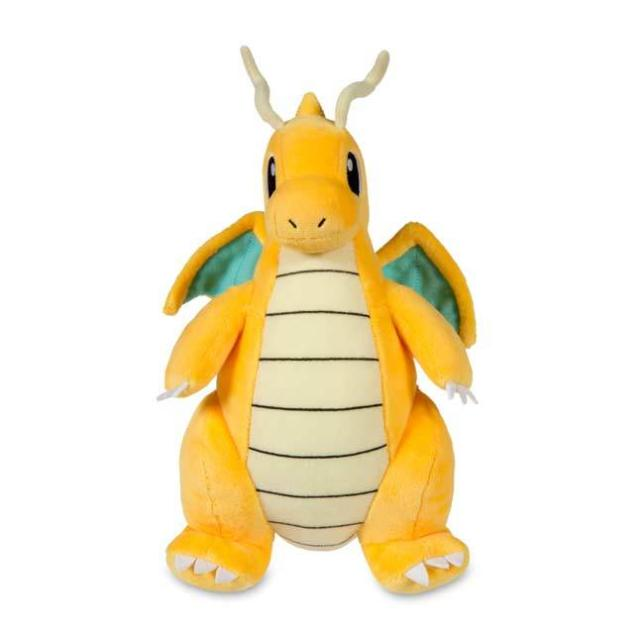Dragonite: (151, 42, 484, 603)
